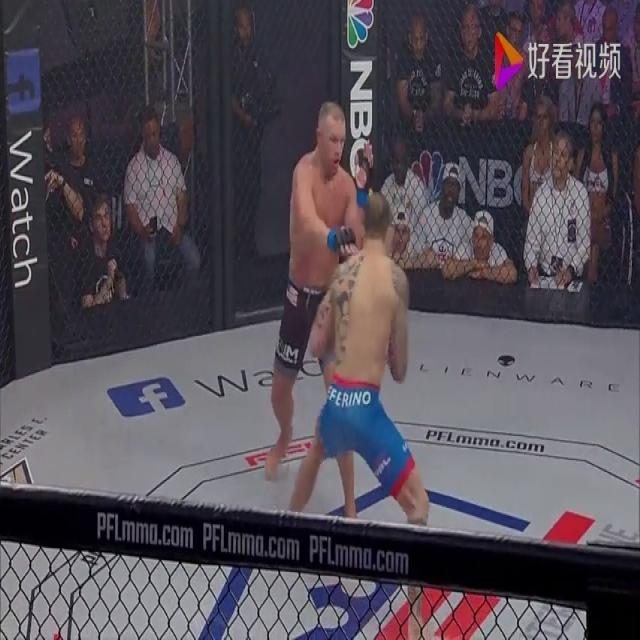fight: (257, 96, 440, 596)
